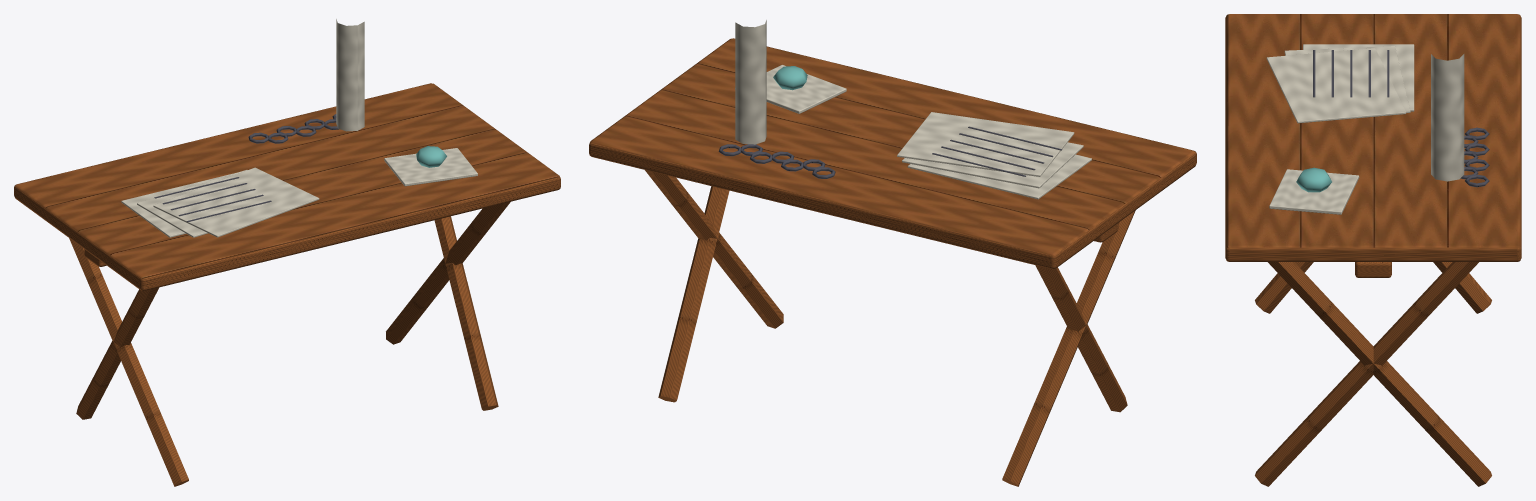
The model's file is jungle-temple-and-stone-city-field-table-and-notes-77713450__36153.glb.
The picture shows the model from 3 angles, left to right: view 1: azimuth 30°, elevation 25°; view 2: azimuth 150°, elevation 25°; view 3: azimuth 270°, elevation 25°; orthographic projection. The views are drawn at different scales.
Visible parts, largest first — view 1: field-table-and-notes; view 2: field-table-and-notes; view 3: field-table-and-notes.
Boxes of the visible parts, box(x1,y1,x2,y2) form: field-table-and-notes: box(14, 19, 560, 486); field-table-and-notes: box(589, 20, 1196, 486); field-table-and-notes: box(1225, 14, 1521, 486).
Size of the model in its own units: 1.5 by 1.19 by 0.8001.
4 materials, 2 textured.
